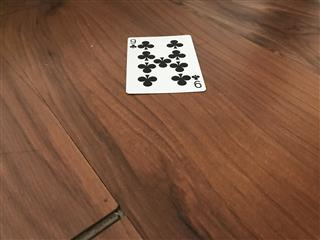NineOfClubs: (124, 33, 207, 94)
